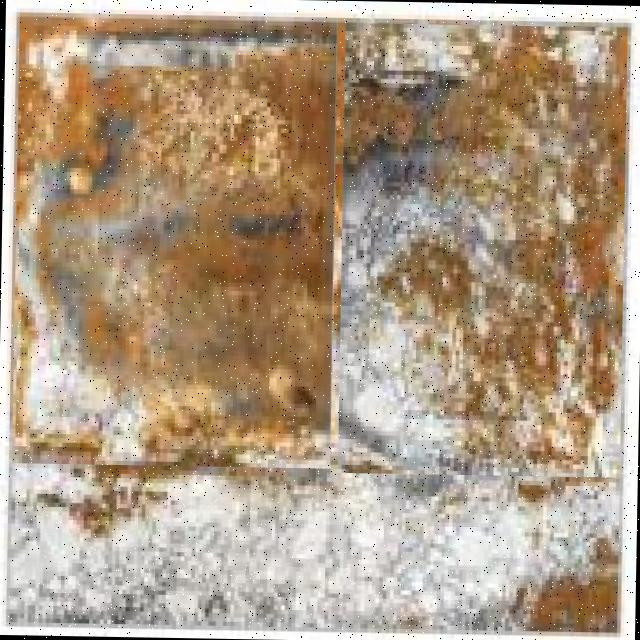Corrosion: (6, 11, 628, 632), (12, 22, 340, 470), (340, 19, 628, 472)
